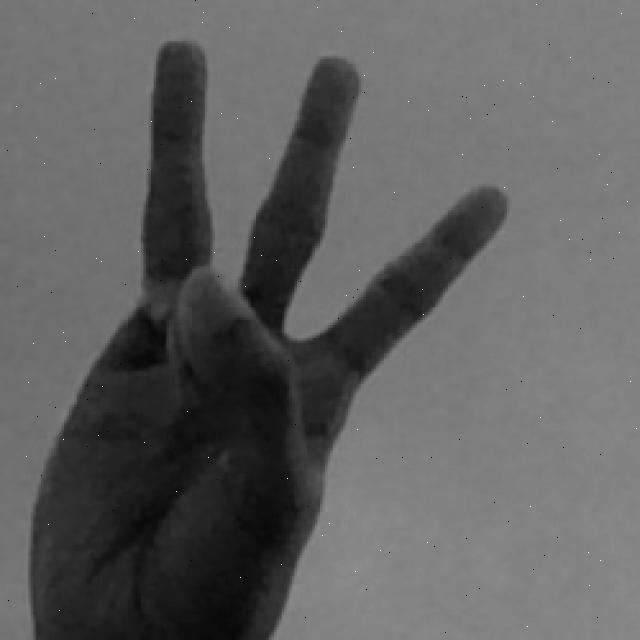W: (12, 25, 514, 640)
